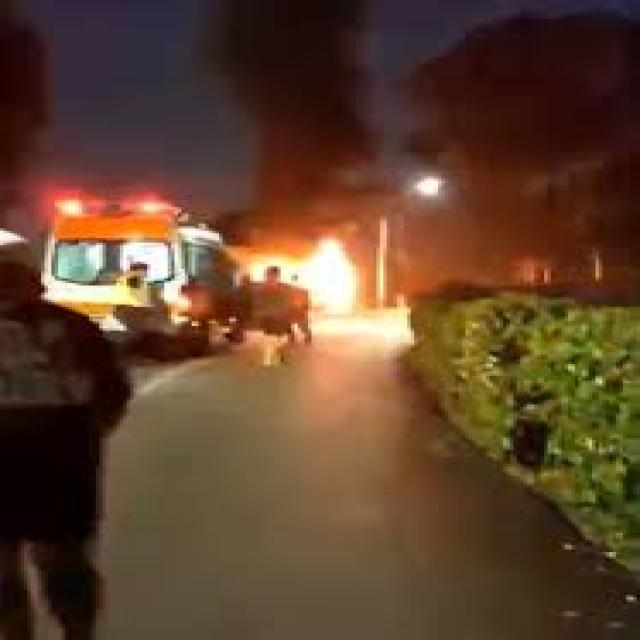fire: (243, 242, 373, 316)
smoke: (202, 4, 383, 236)
